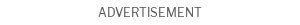fake_button: (78, 0, 224, 25)
